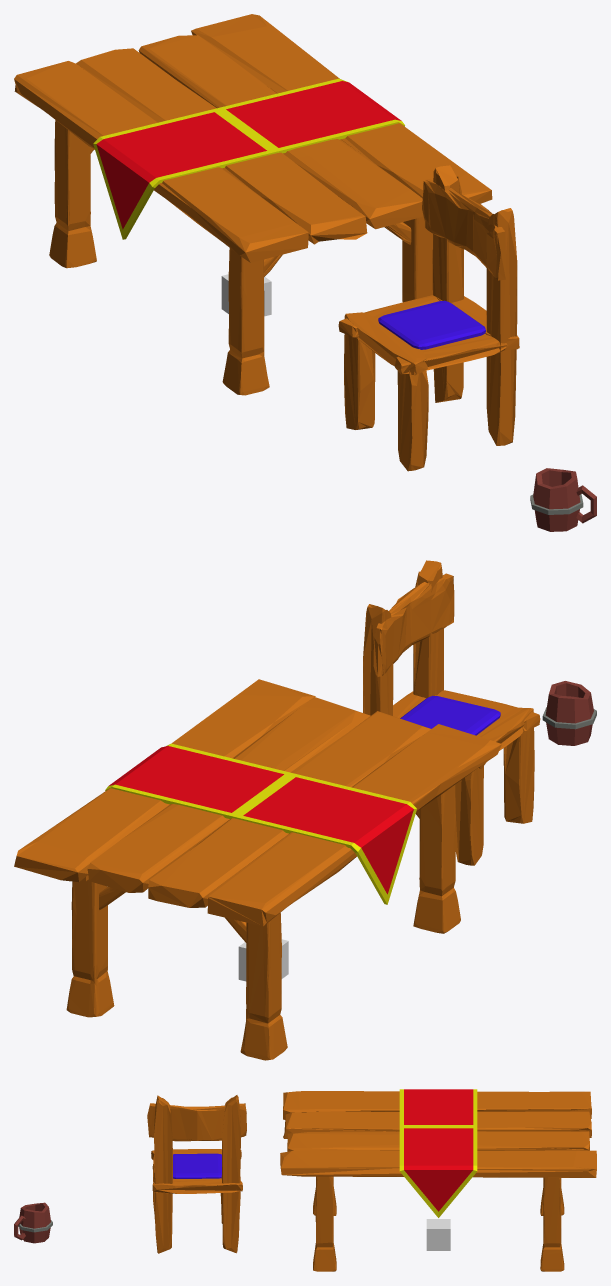
Rendered from free.fbx.
The picture shows the model from 3 angles, top to bottom: view 1: azimuth 30°, elevation 25°; view 2: azimuth 150°, elevation 25°; view 3: azimuth 270°, elevation 25°; orthographic projection. The views are drawn at different scales.
Parts seen in each view (by area): view 1: Cube.004, Plane, Cube, Cube.016, Cube.017, Cube.018, Cube.015, Cup, Cube.014, Cube.012; view 2: Cube.004, Plane, Cube, Cube.017, Cube.016, Cube.018, Cup, Cube.015, Cube.012, Cube.014; view 3: Cube.004, Plane, Cube.016, Cube, Cube.018, Cube.012, Cup, Cube.015, і.
Boxes of the visible parts, x1,y1,x2,y2 form: Cube.004: [14, 14, 492, 262]; Plane: [93, 78, 404, 239]; Cube: [49, 120, 432, 395]; Cube.016: [432, 165, 517, 445]; Cube.017: [344, 334, 428, 471]; Cube.018: [422, 179, 506, 280]; Cube.015: [378, 300, 485, 349]; Cup: [530, 468, 596, 531]; Cube.014: [338, 295, 507, 374]; Cube.012: [344, 296, 519, 374]; Cube.004: [14, 679, 501, 926]; Plane: [105, 743, 416, 904]; Cube: [66, 785, 460, 1060]; Cube.017: [455, 727, 534, 865]; Cube.016: [363, 560, 443, 715]; Cube.018: [373, 573, 454, 676]; Cup: [542, 681, 596, 745]; Cube.015: [400, 695, 500, 735]; Cube.012: [393, 691, 533, 750]; Cube.014: [436, 690, 540, 768]; Cube.004: [280, 1091, 596, 1177]; Plane: [399, 1089, 477, 1217]; Cube.016: [154, 1095, 240, 1253]; Cube: [313, 1176, 564, 1271]; Cube.018: [147, 1103, 246, 1141]; Cube.012: [151, 1149, 242, 1193]; Cup: [14, 1202, 52, 1243]; Cube.015: [173, 1153, 221, 1178]; і: [426, 1219, 450, 1250].
Size of the model in its own units: 236 by 221 by 717.
